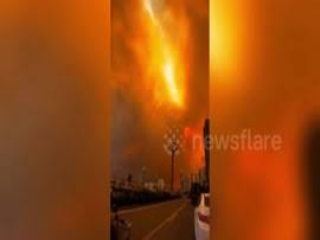fire: (154, 45, 192, 114)
